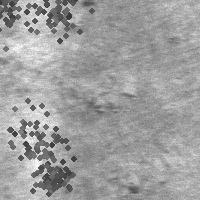rolled-in_scale: (0, 89, 83, 185), (57, 70, 138, 122), (21, 144, 79, 200), (18, 0, 86, 42), (119, 153, 179, 194), (0, 0, 43, 48)
